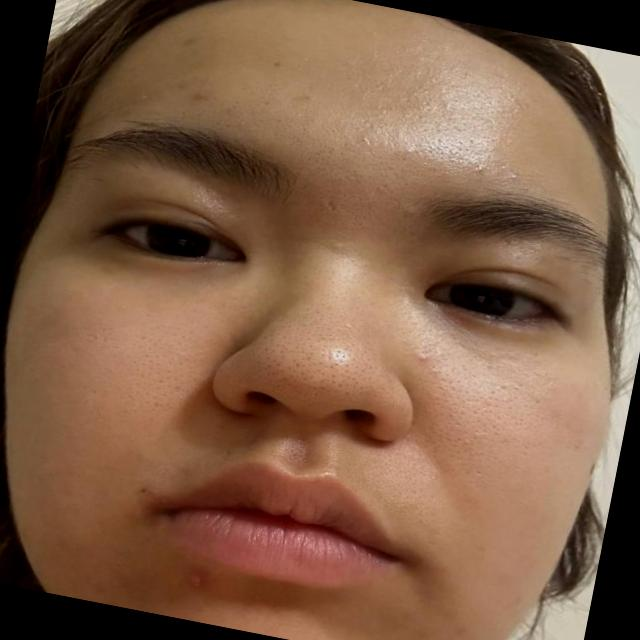acne: (474, 162, 496, 180), (504, 168, 524, 182), (427, 365, 447, 376)
blackhead: (287, 343, 359, 400), (322, 180, 396, 232), (355, 362, 398, 410), (247, 342, 287, 387), (298, 89, 318, 105)
nodules: (176, 567, 218, 599), (190, 88, 217, 106)
